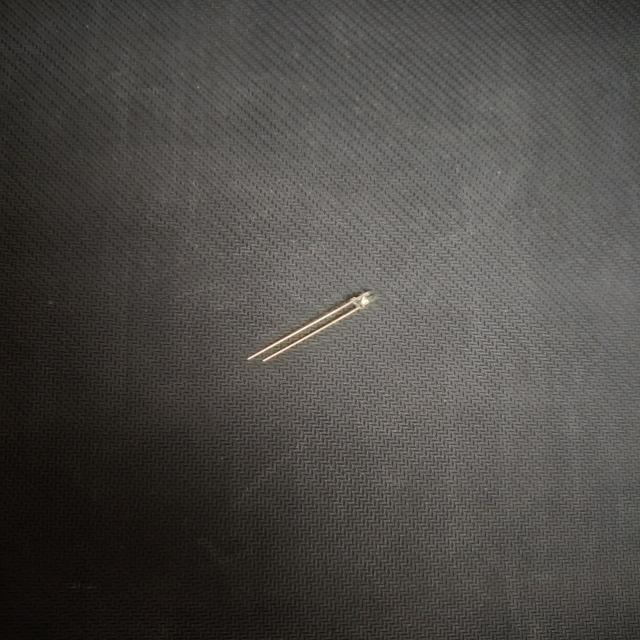led: (238, 281, 388, 376)
